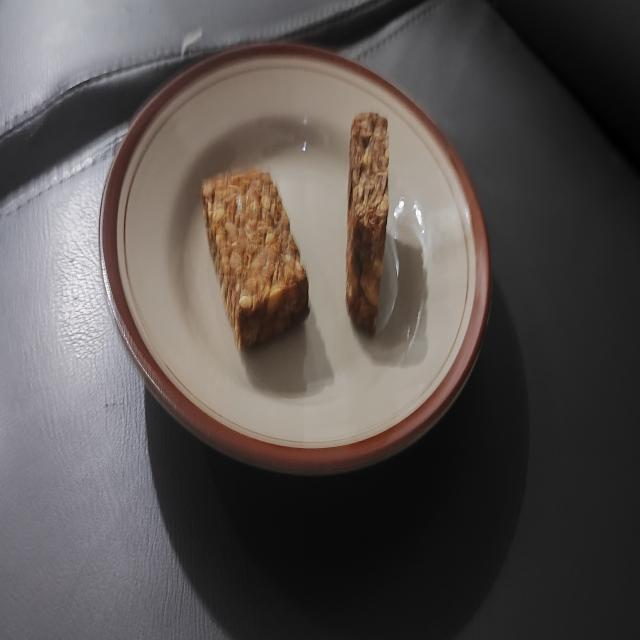tempe_goreng: (202, 170, 308, 349), (346, 112, 389, 334)
